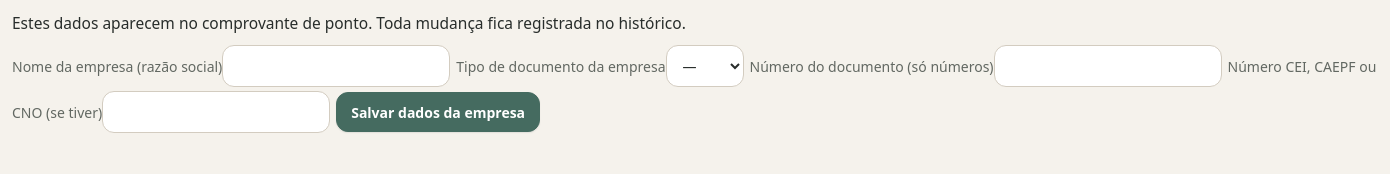
EmployerTab › administrador salva os dados do empregador
The image size is (1390, 174).
Step 1. Type "Empresa A Ltda" into the field labelled "Nome da empresa (razão social)" → x=336, y=66, box [222,45,450,87]
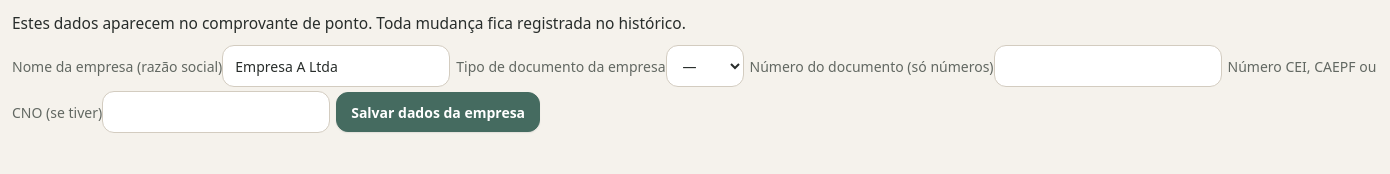
Step 2. Click the button "Salvar dados da empresa" → x=438, y=112, box [336,92,540,132]
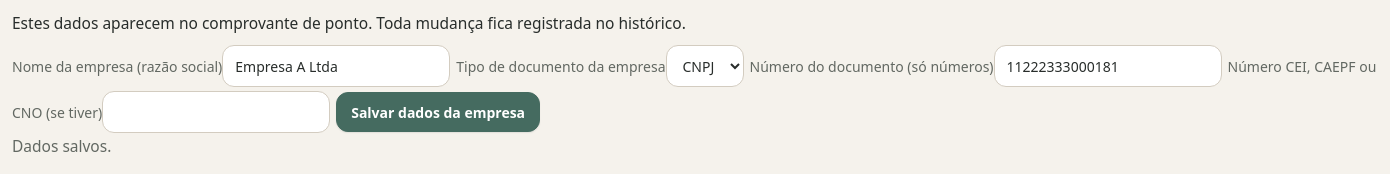
Check: the text "Dados salvos." is shown, box [12,135,111,157]
